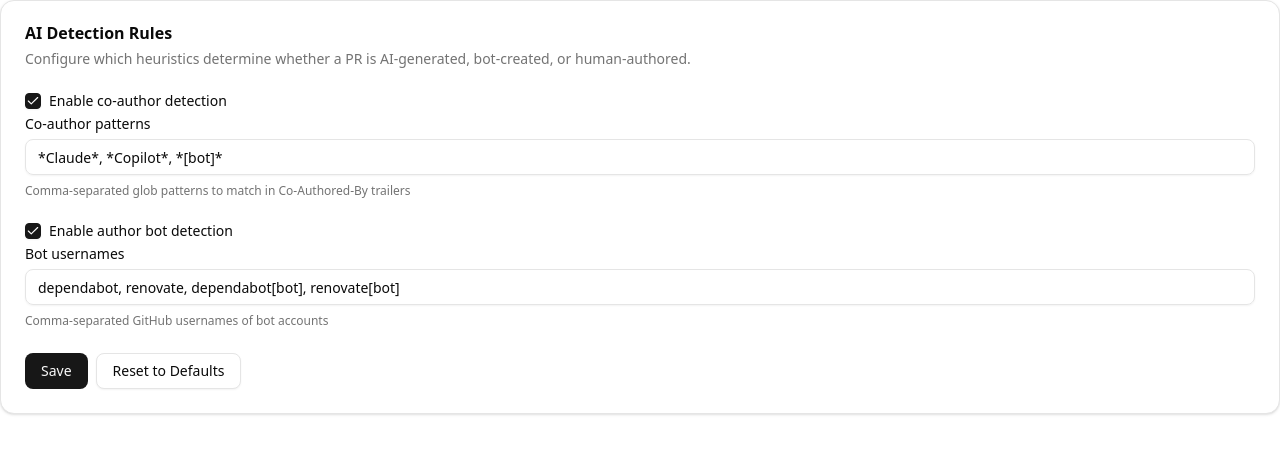
it: AiHeuristicsForm › shows success feedback after save
Step 1. Click the button "Save" → (56, 371), box [25, 353, 88, 389]
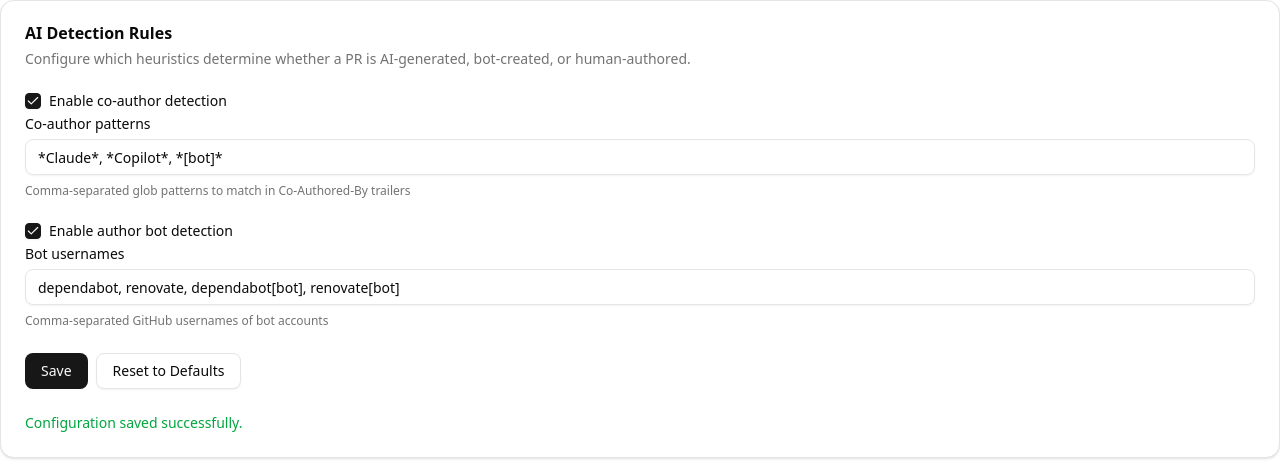
Expected: the text "Configuration saved successfully." is shown, [25, 413, 242, 432]
